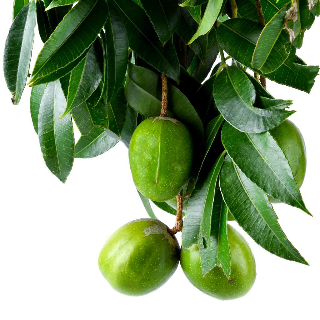coc: (99, 218, 179, 296), (128, 116, 194, 202)
